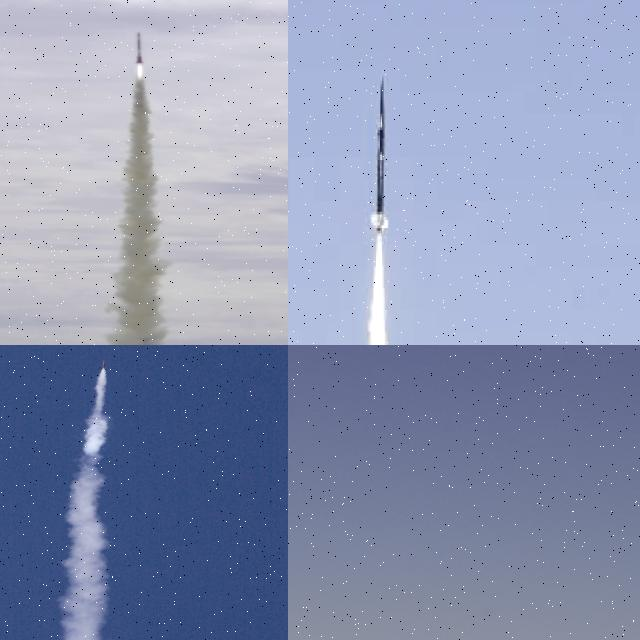Rocket: (369, 69, 391, 239), (135, 31, 144, 64), (98, 359, 109, 372)
